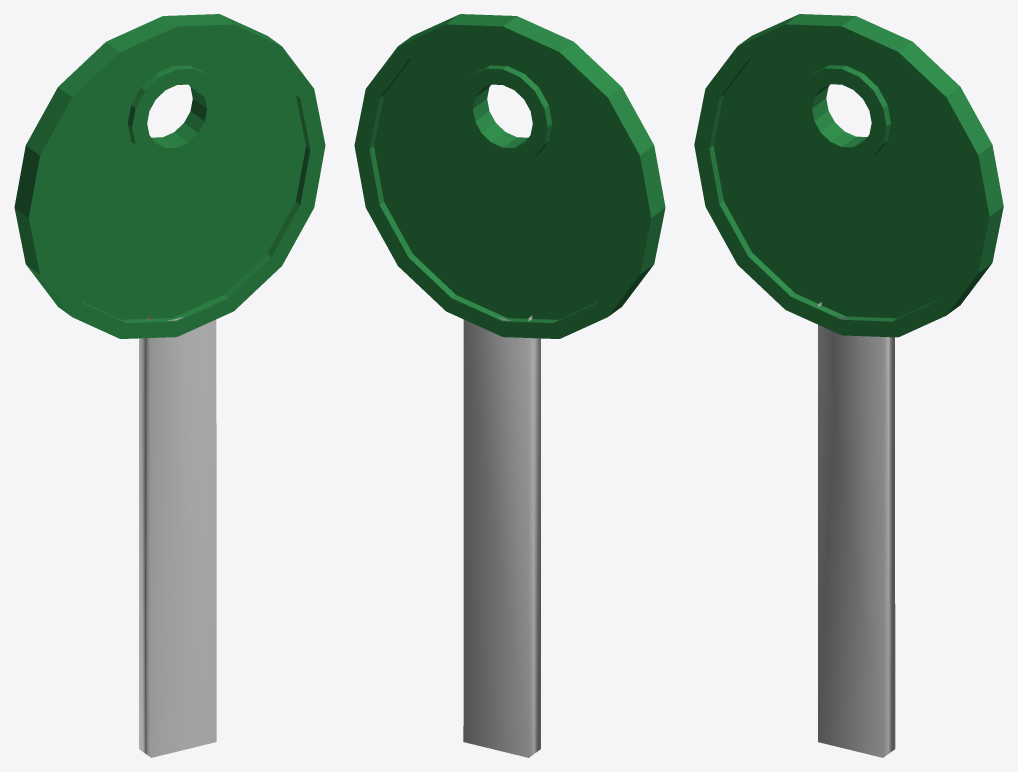
Rendered from klucz.glb.
The picture shows the model from 3 angles, left to right: view 1: azimuth 30°, elevation 25°; view 2: azimuth 150°, elevation 25°; view 3: azimuth 330°, elevation 25°; orthographic projection.
Visible parts, largest first — view 1: Kolko, Cube; view 2: Kolko, Cube; view 3: Kolko, Cube.
Part boxes in pixels (left/top/right/bottom): Kolko: left=14, top=14, right=325, bottom=338; Cube: left=139, top=316, right=216, bottom=757; Kolko: left=354, top=14, right=665, bottom=338; Cube: left=463, top=316, right=540, bottom=757; Kolko: left=694, top=14, right=1003, bottom=337; Cube: left=818, top=302, right=895, bottom=757.
Size of the model in its own units: 2 by 4.68 by 0.1666.
